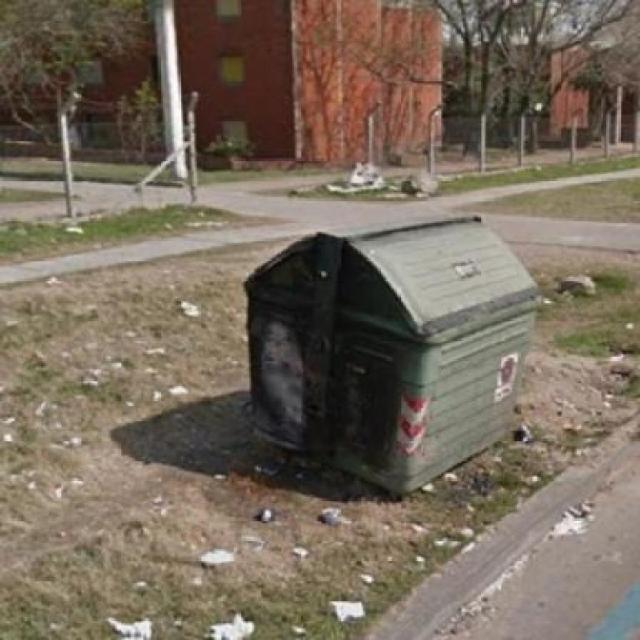garbage: (106, 606, 173, 639), (162, 288, 212, 332), (203, 606, 267, 639), (326, 596, 379, 630), (195, 539, 240, 578), (560, 497, 591, 542), (315, 499, 350, 536), (246, 506, 288, 534), (511, 417, 544, 447)
